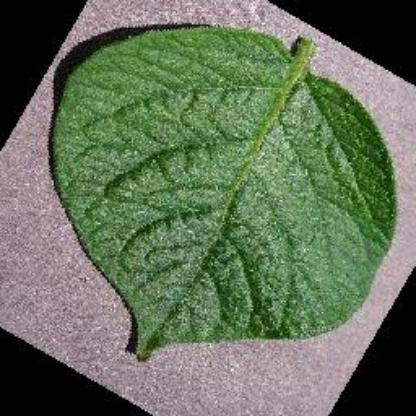Healthy-plant: (25, 15, 397, 393)
